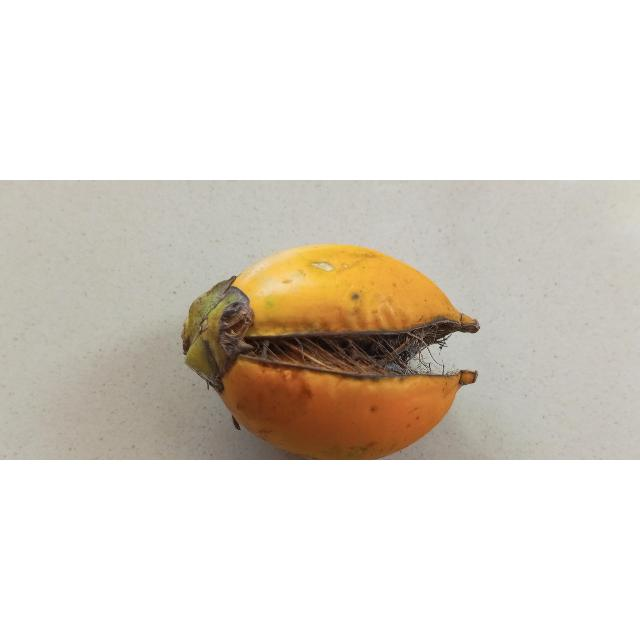damaged: (181, 245, 480, 461)
